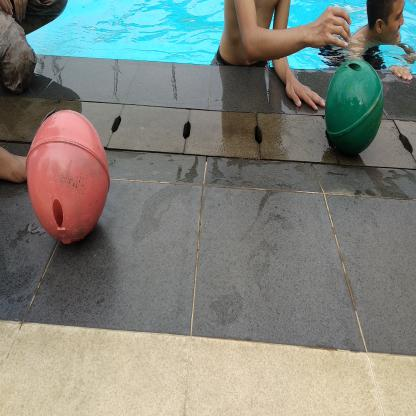green_buoy: (321, 56, 385, 158)
red_buoy: (23, 107, 114, 252)
